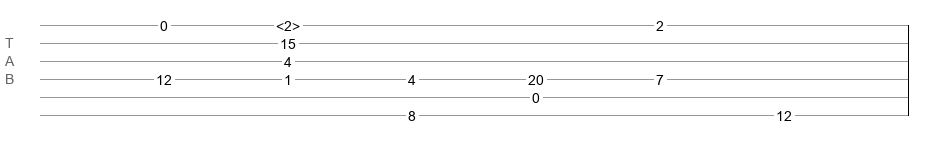0: (160, 18, 168, 28), (532, 90, 540, 100)
1: (284, 72, 292, 82)
12: (156, 72, 172, 82), (776, 108, 792, 118)
15: (280, 36, 296, 46)
2: (656, 18, 664, 28)
20: (528, 72, 544, 82)
4: (284, 54, 292, 64), (408, 72, 416, 82)
7: (656, 72, 664, 82)
8: (408, 108, 416, 118)
harmonic: (276, 18, 300, 28)
